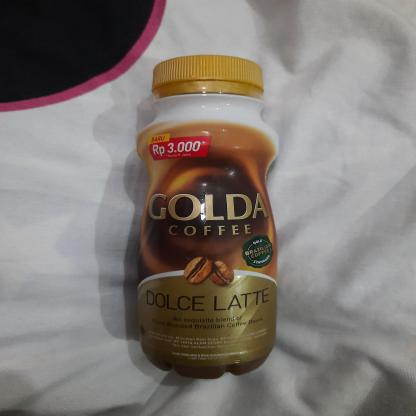plastic: (133, 52, 283, 383)
